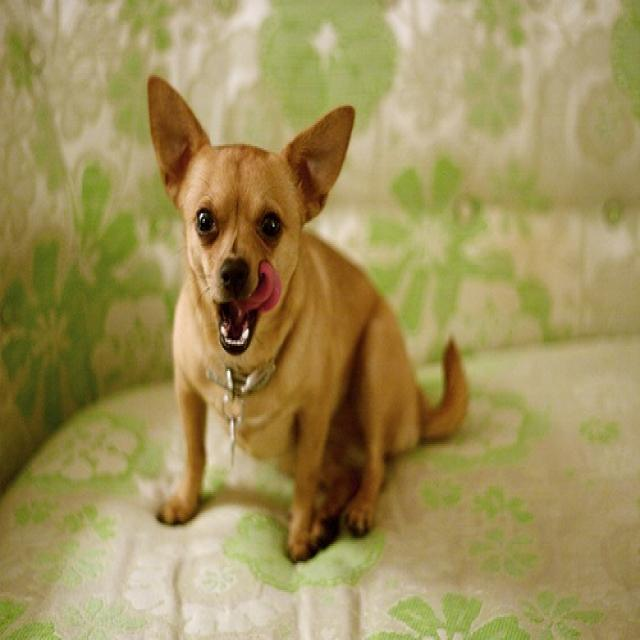dog: (143, 69, 466, 563)
